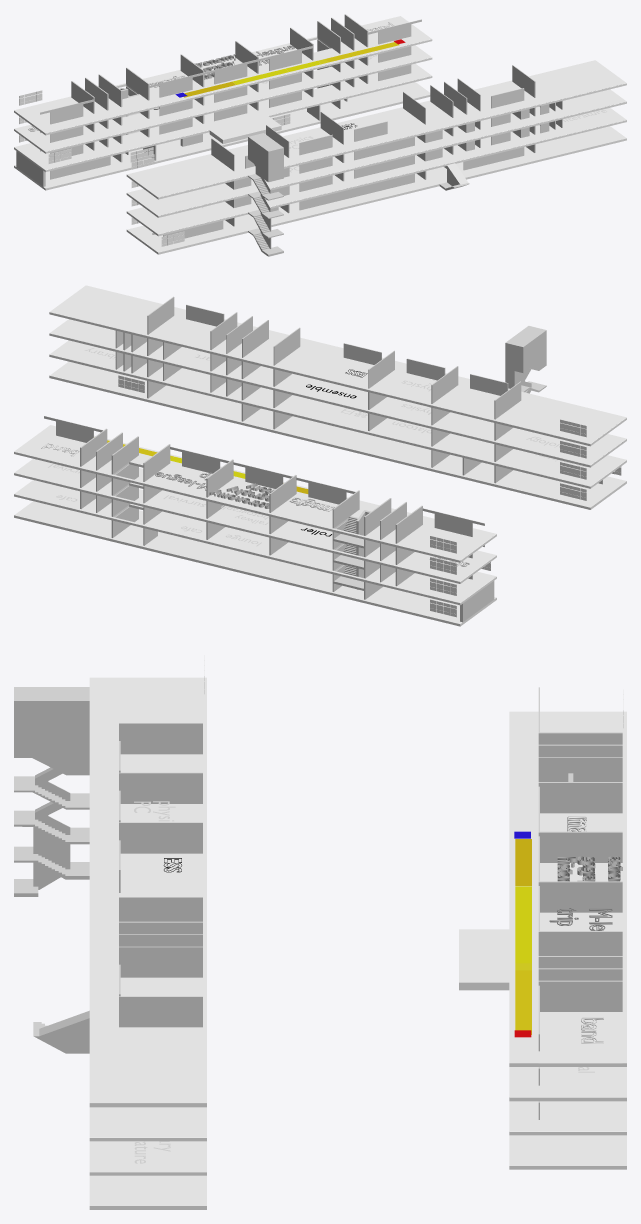
Rendered from frombandtomagic.glb.
3 views of the same model, one above another, from view 1: azimuth 30°, elevation 25°; view 2: azimuth 150°, elevation 25°; view 3: azimuth 270°, elevation 25° (orthographic). The views are drawn at different scales.
Visible parts, largest first — view 1: floor S 4F, floor S 3F, floor S 2F, floor 4F, floor S 1F, floor 3F, floor 2F, floor 1F, Str S 4F, wall HomeRoom~HomeRoom.002, ceiling Gate.001, wall 1C~1C (+36 smaller); view 2: floor S 4F, floor S 1F, floor S 2F, floor S 3F, floor 4F, floor 1F, floor 2F, floor 3F, Str S 4F, 天文 地歴, wall Civics~Civics, wall 1D~1D (+27 smaller); view 3: floor S 4F, floor 4F, Str S 4F, floor 1F, floor S 3F, floor S 1F, floor 2F, floor 3F, floor S 2F, ceiling Gate.001, Str S 1F, wall 1A~Out.001 (+24 smaller).
Boxes of the visible parts, <box> form: floor S 4F: <box>126,60,626,199</box>; floor S 3F: <box>126,89,626,217</box>; floor S 2F: <box>126,108,626,236</box>; floor 4F: <box>14,16,432,135</box>; floor S 1F: <box>126,126,626,254</box>; floor 3F: <box>14,45,432,153</box>; floor 2F: <box>14,63,432,172</box>; floor 1F: <box>14,82,430,190</box>; Str S 4F: <box>248,133,283,200</box>; wall HomeRoom~HomeRoom.002: <box>299,174,414,210</box>; ceiling Gate.001: <box>209,116,281,143</box>; wall 1C~1C: <box>204,59,257,84</box>; floor S 4F: <box>49,285,626,446</box>; floor S 1F: <box>49,361,626,509</box>; floor S 2F: <box>49,340,626,488</box>; floor S 3F: <box>49,319,626,467</box>; floor 4F: <box>14,425,496,562</box>; floor 1F: <box>14,501,496,626</box>; floor 2F: <box>14,480,496,605</box>; floor 3F: <box>14,459,496,583</box>; Str S 4F: <box>505,326,546,392</box>; 天文 地歴: <box>209,483,274,508</box>; wall Civics~Civics: <box>422,508,484,536</box>; wall 1D~1D: <box>296,477,355,504</box>; floor S 4F: <box>89,677,206,1107</box>; floor 4F: <box>509,711,626,1066</box>; Str S 4F: <box>14,687,89,792</box>; floor 1F: <box>509,1135,626,1169</box>; floor S 3F: <box>89,1107,206,1141</box>; floor S 1F: <box>89,1175,206,1209</box>; floor 2F: <box>509,1101,626,1135</box>; floor 3F: <box>509,1067,626,1101</box>; floor S 2F: <box>89,1141,206,1175</box>; ceiling Gate.001: <box>459,929,509,990</box>; Str S 1F: <box>33,842,89,1053</box>; wall 1A~Out.001: <box>119,996,202,1027</box>.
Size of the model in its own units: 90 by 21 by 54.75.
